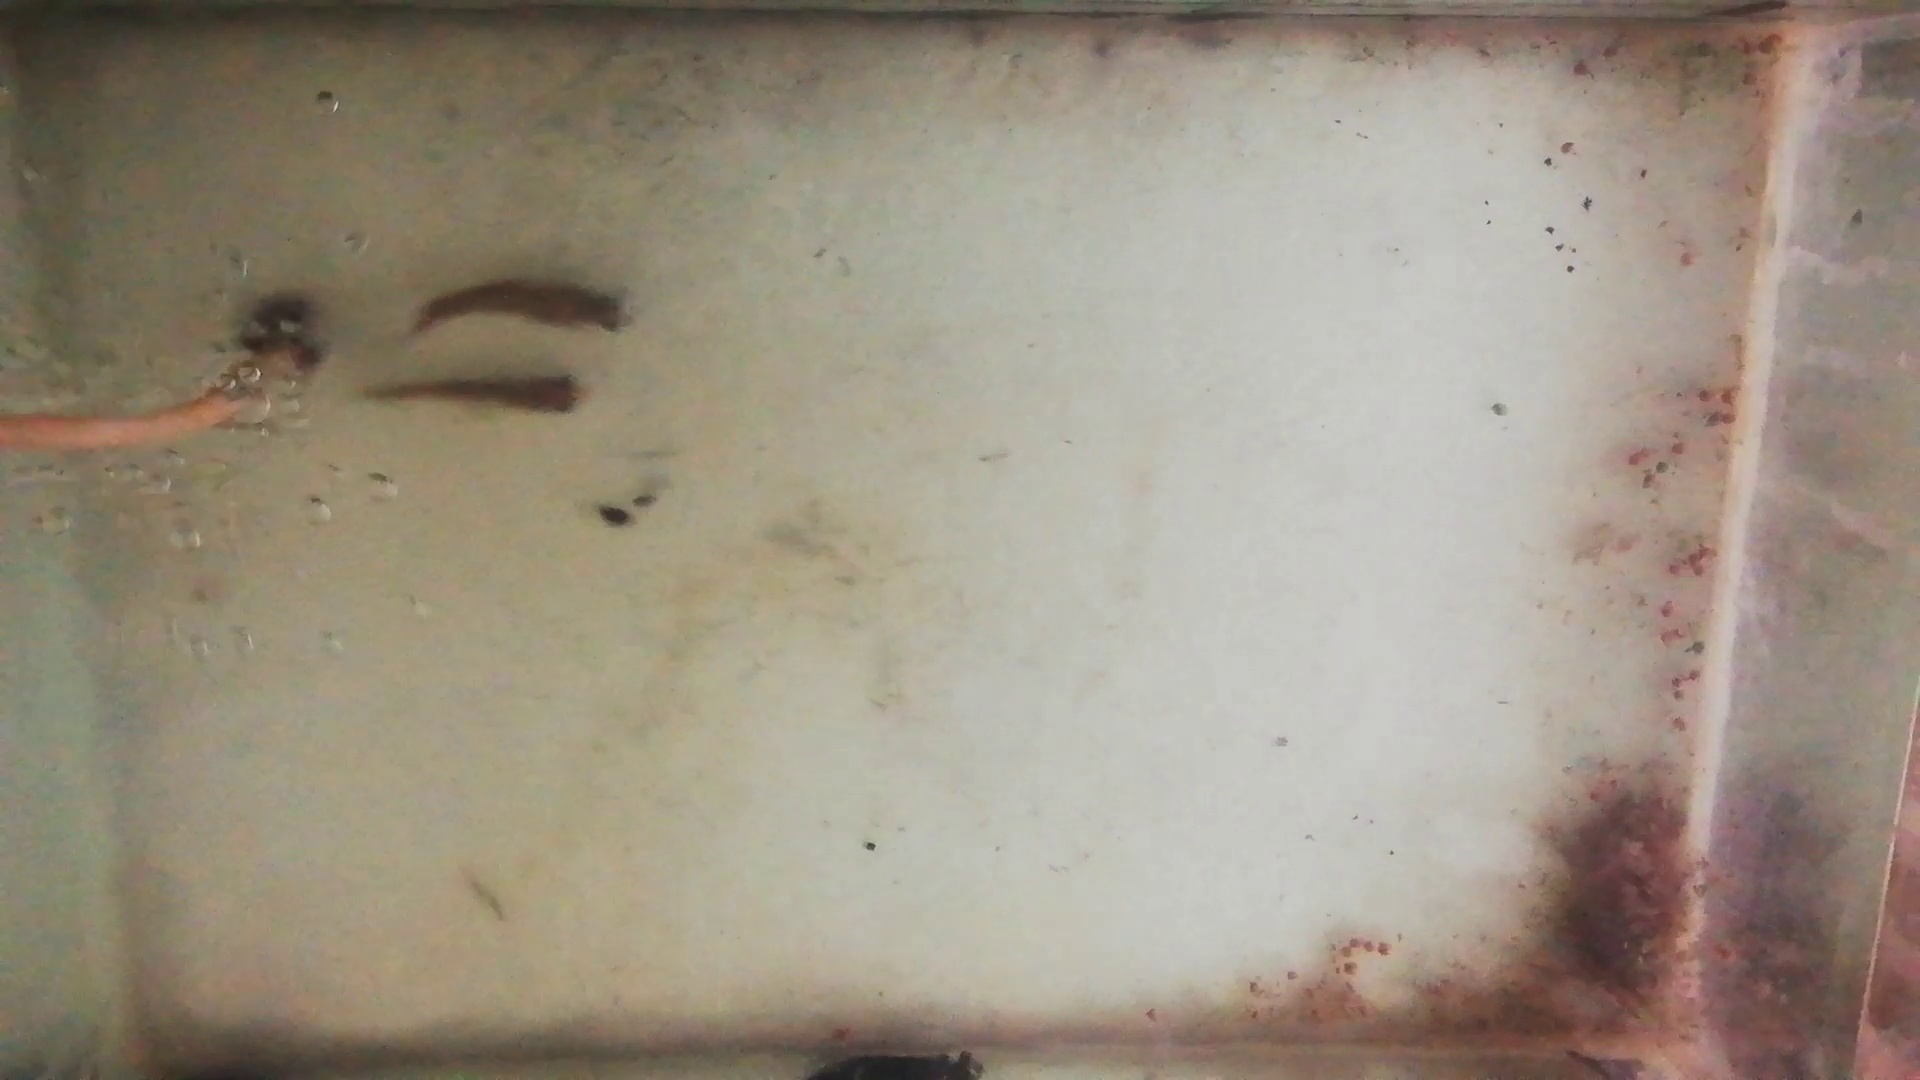fish: (421, 284, 637, 342), (364, 371, 591, 417)
